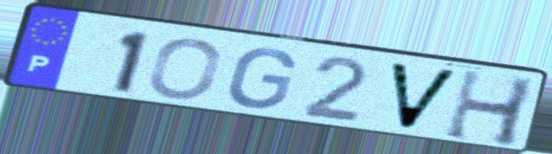1: (111, 28, 154, 95)
2: (296, 55, 370, 124)
G: (224, 46, 299, 111)
H: (441, 67, 540, 150)
O: (144, 36, 226, 101)
V: (385, 59, 463, 134)
